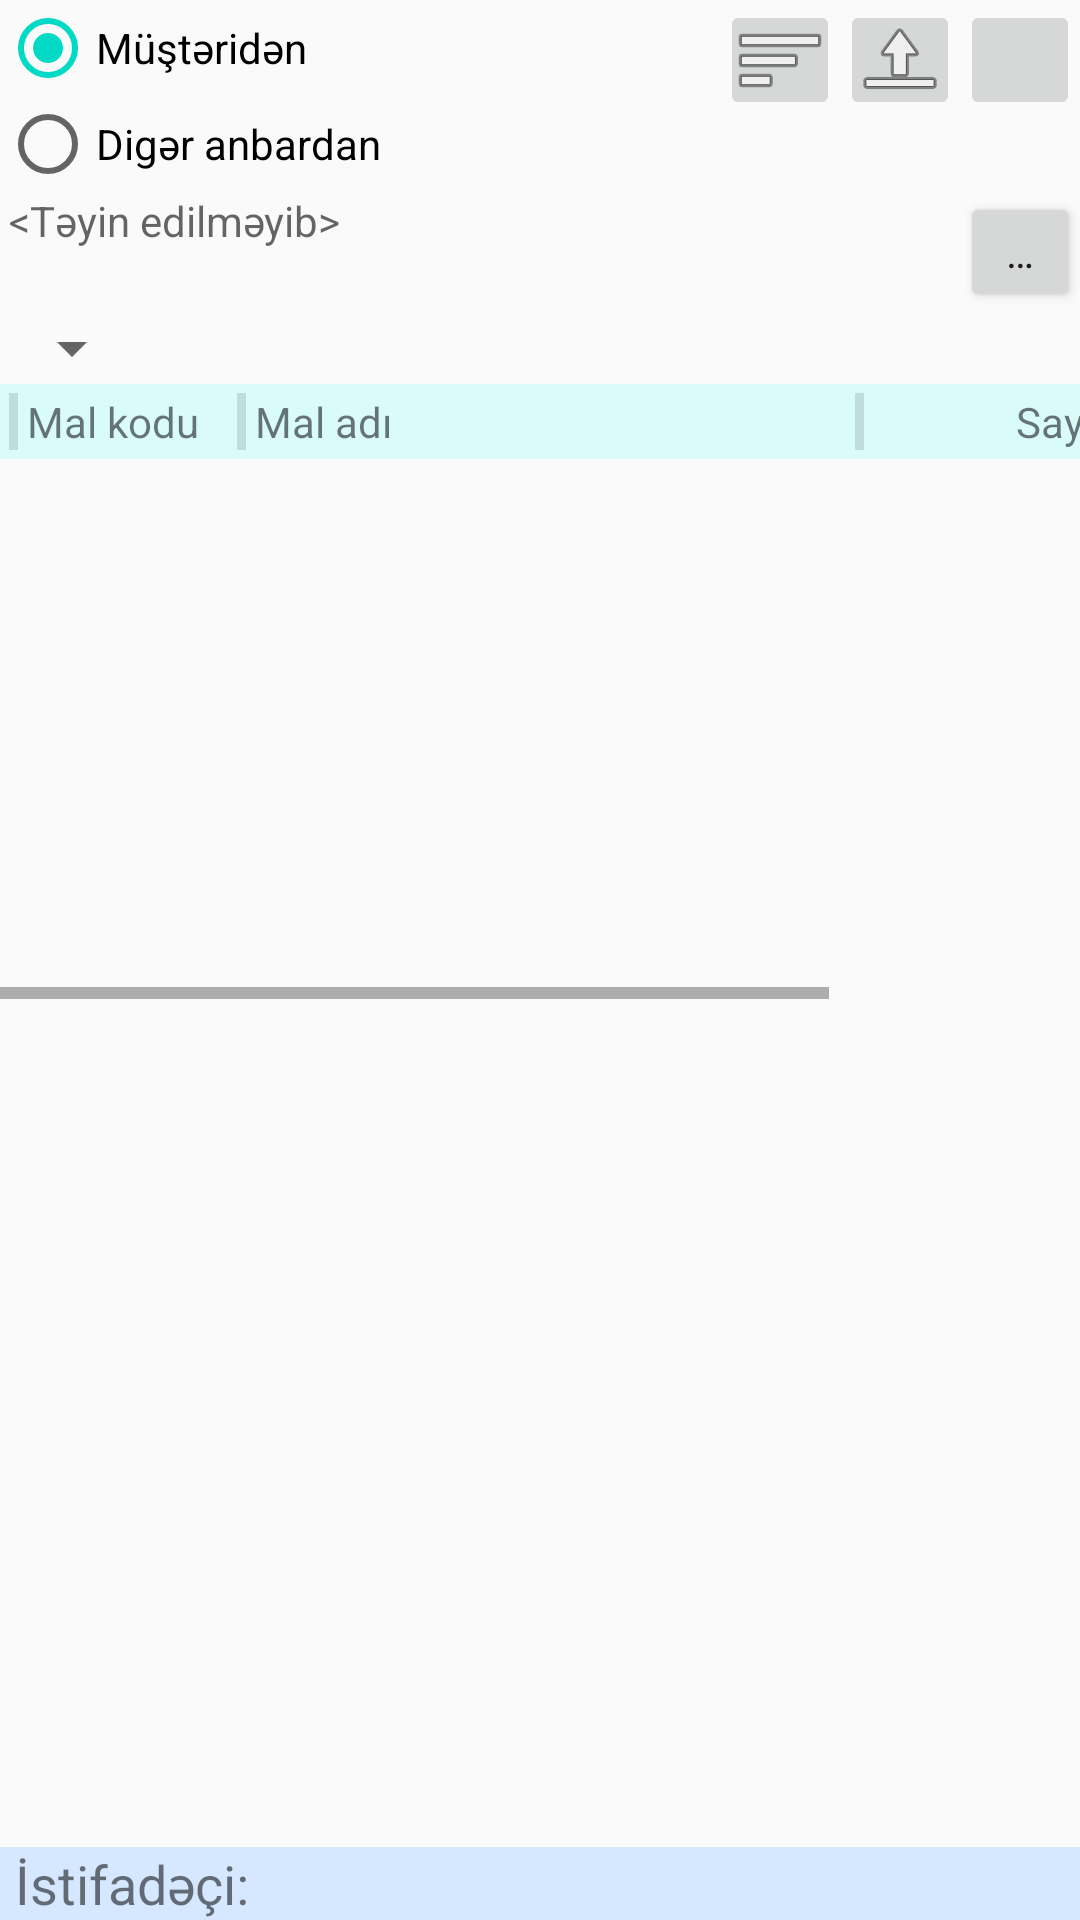

Named icons in this screenshot (1080px×1920px) and their centers, (x=x, y=y):
Göndər: (x=900, y=60)
